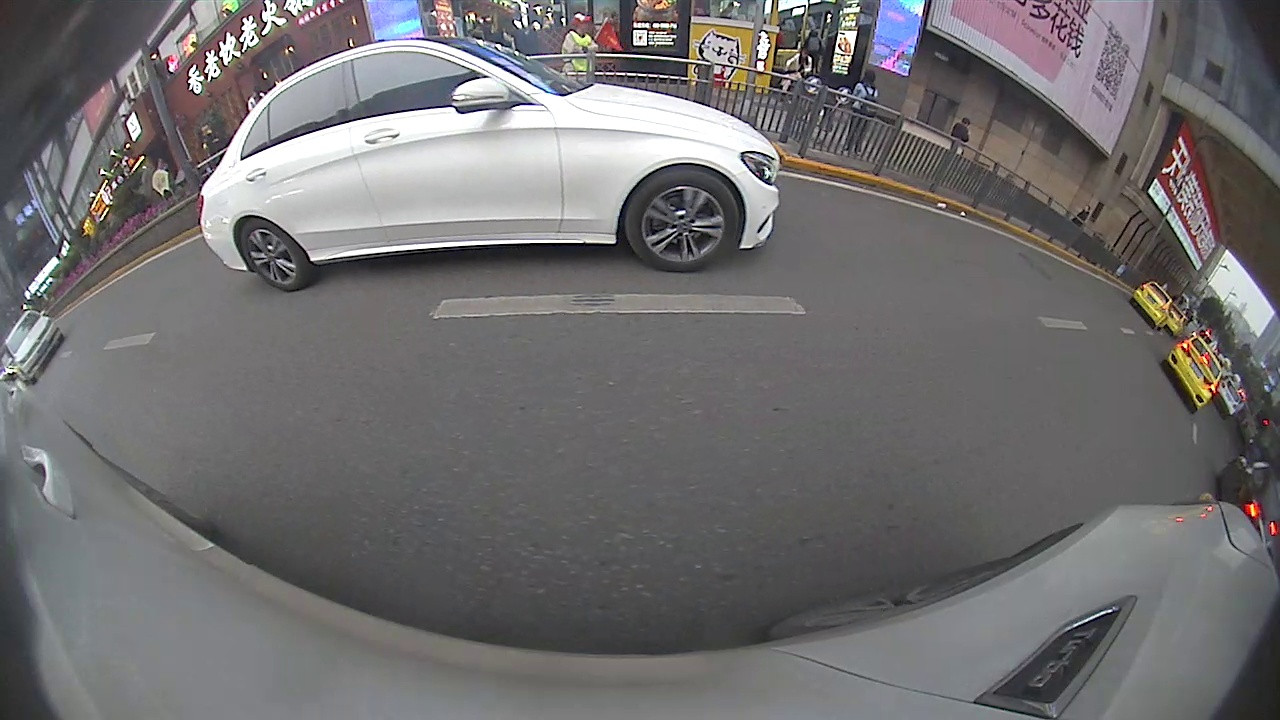car: (195, 37, 790, 295), (1161, 331, 1223, 414), (3, 310, 63, 384), (1129, 279, 1176, 328)
front: (625, 165, 741, 275)
rear: (236, 218, 305, 293)
